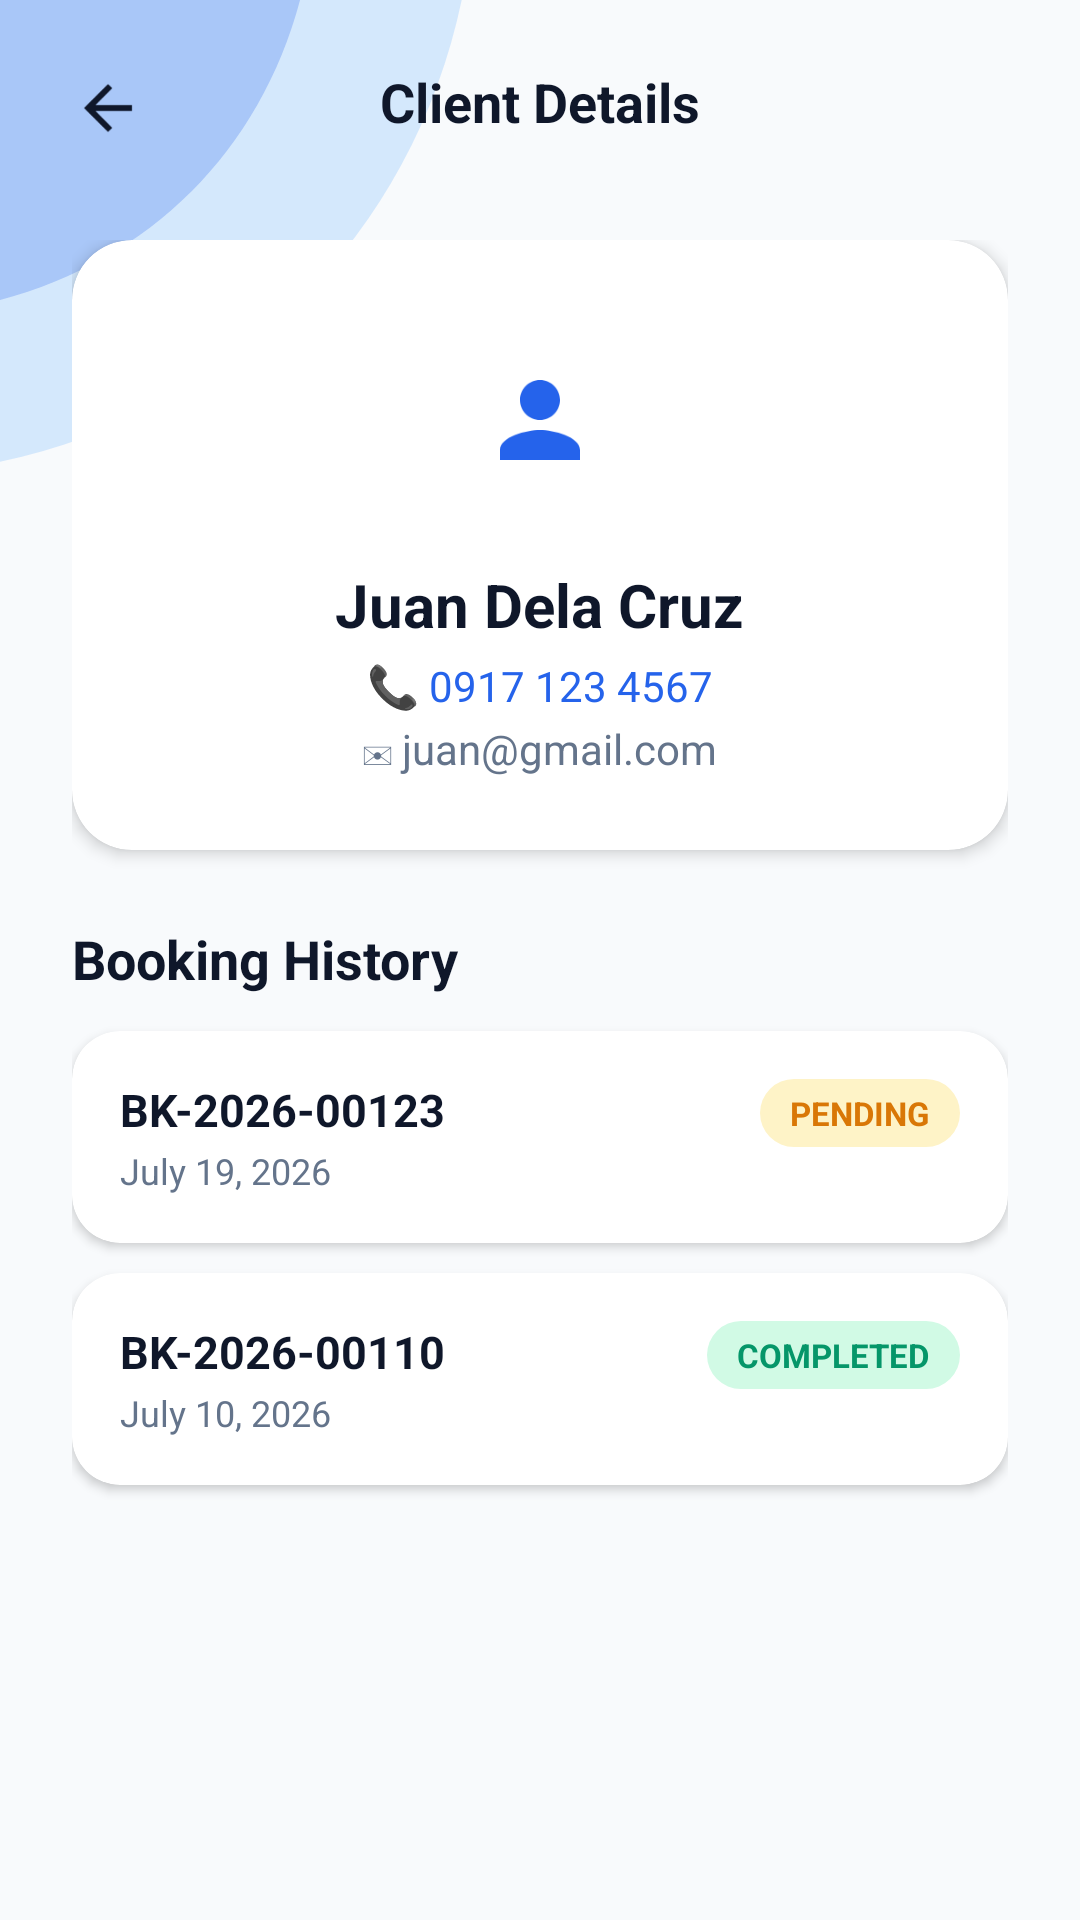

Point at icon controls on the screen. Image size 1080x1920, points as (x=x, y=y).
Avatar: (x=540, y=420)
Back Button: (x=108, y=108)
